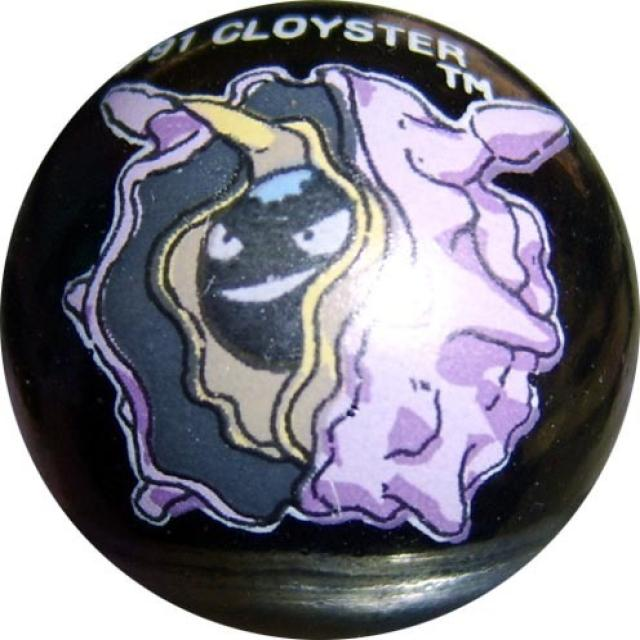Cloyster: (100, 74, 568, 546)
